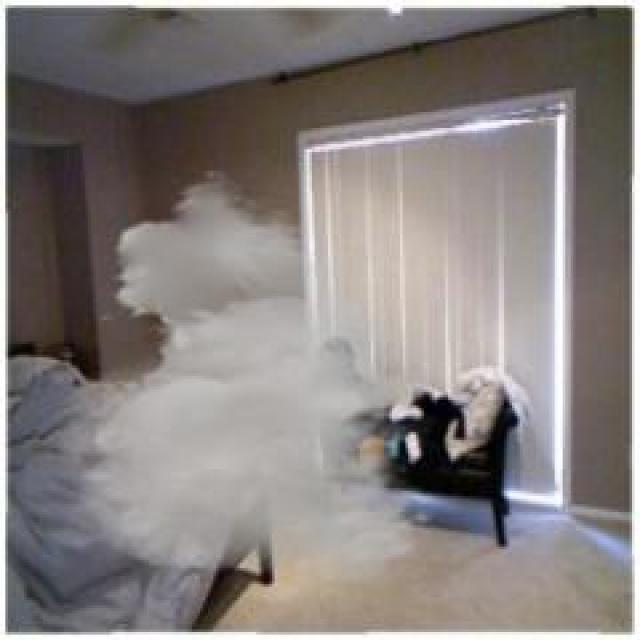Smoke: (92, 172, 445, 565)
